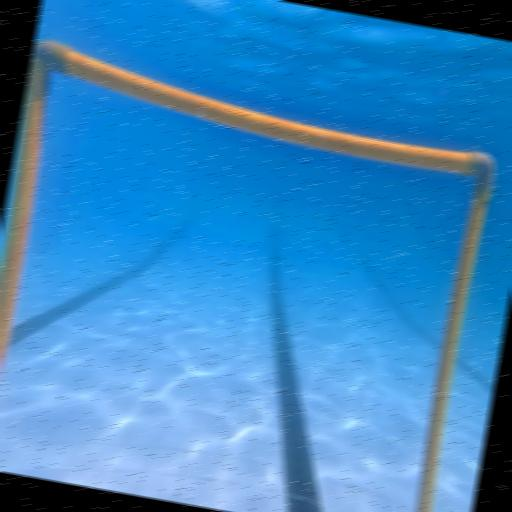gate: (0, 38, 504, 512)
